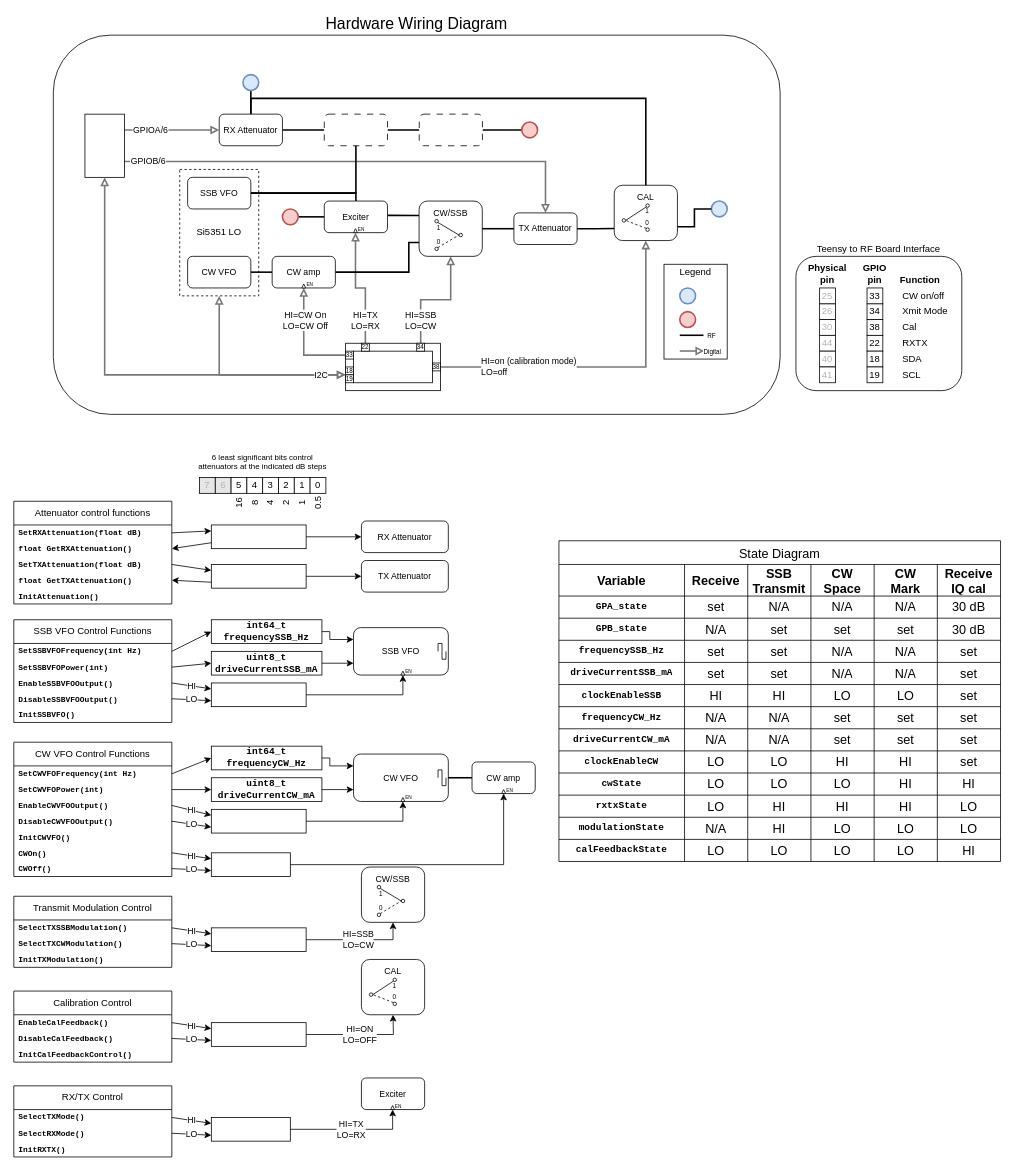
Image size: 1014x1171. Some labels were removed from this diagram. Each missing label, with the centre of its shape:
"bool calFeedbackState" belongs at pixel 258 1034.
"bool clockEnableCW" belongs at pixel 258 821.
"bool clockEnableSSB" belongs at pixel 258 694.
"bool cwState" belongs at pixel 250 864.
"bool modulationState" belongs at pixel 258 939.
"bool rxtxState" belongs at pixel 250 1129.
"I2C to GPIO" belongs at pixel 104 145.
"IF IO" belongs at pixel 687 319.
"LPF" belongs at pixel 450 129.
"RF IO" belongs at pixel 687 295.
"RX in" belongs at pixel 250 82.
"RX IQ out" belongs at pixel 529 129.
"Tayloe Mixer" belongs at pixel 355 129.
"Teensy GPIO" belongs at pixel 393 366.
"TX IQ in" belongs at pixel 290 216.
"TX out" belongs at pixel 719 208.
"uint8_t GPA_state" belongs at pixel 258 536.
"uint8_t GPB_state" belongs at pixel 258 576.
